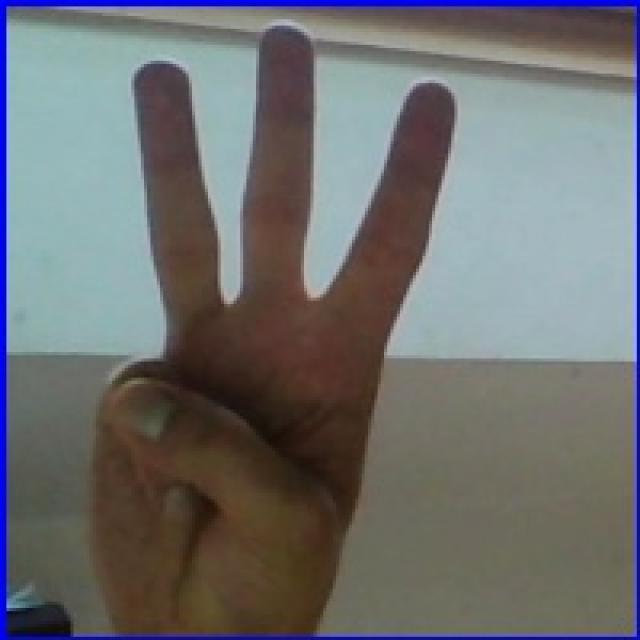W: (63, 4, 465, 636)
